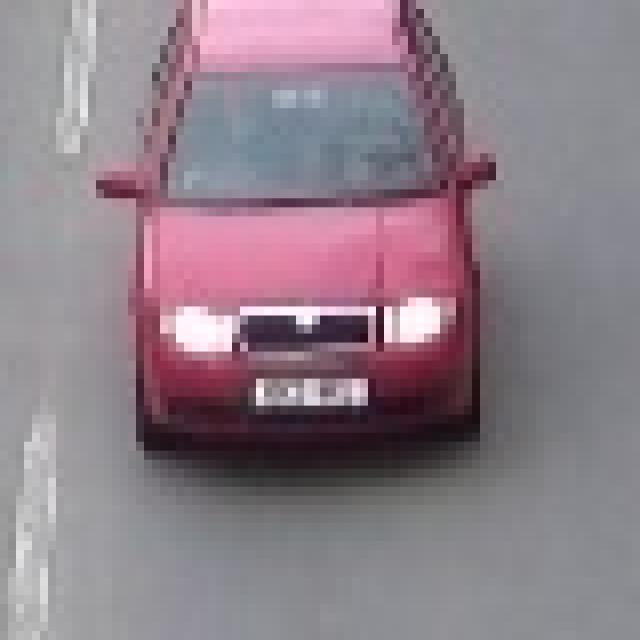maroon: (111, 5, 483, 454)
